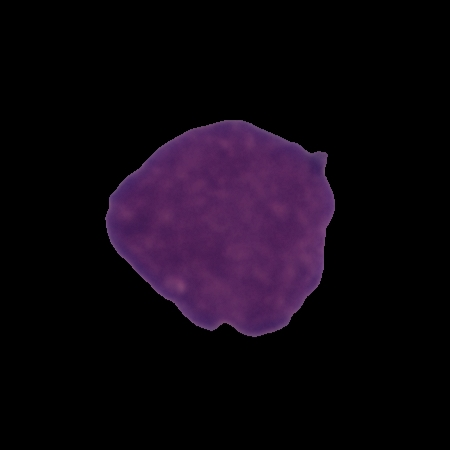HEM: (101, 115, 339, 341)
